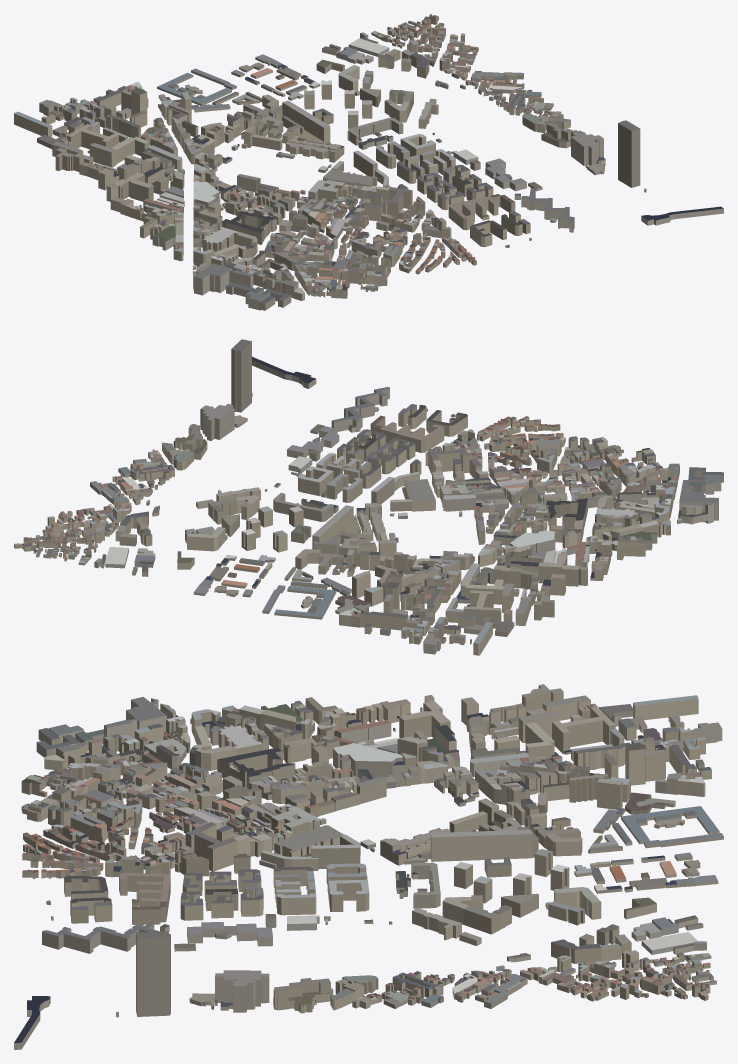
3 renders of one model, top to bottom at view 1: azimuth 30°, elevation 25°; view 2: azimuth 150°, elevation 25°; view 3: azimuth 270°, elevation 25°, orthographic. The views are drawn at different scales.
Visible parts, largest first — view 1: tuile; view 2: tuile; view 3: tuile.
Boxes of the visible parts, box(x1,y1,x2,y2) form: tuile: box(14, 14, 723, 310); tuile: box(14, 339, 723, 655); tuile: box(14, 684, 723, 1049).
Bounding box in the file's own units: 1125 × 138 × 1039.
